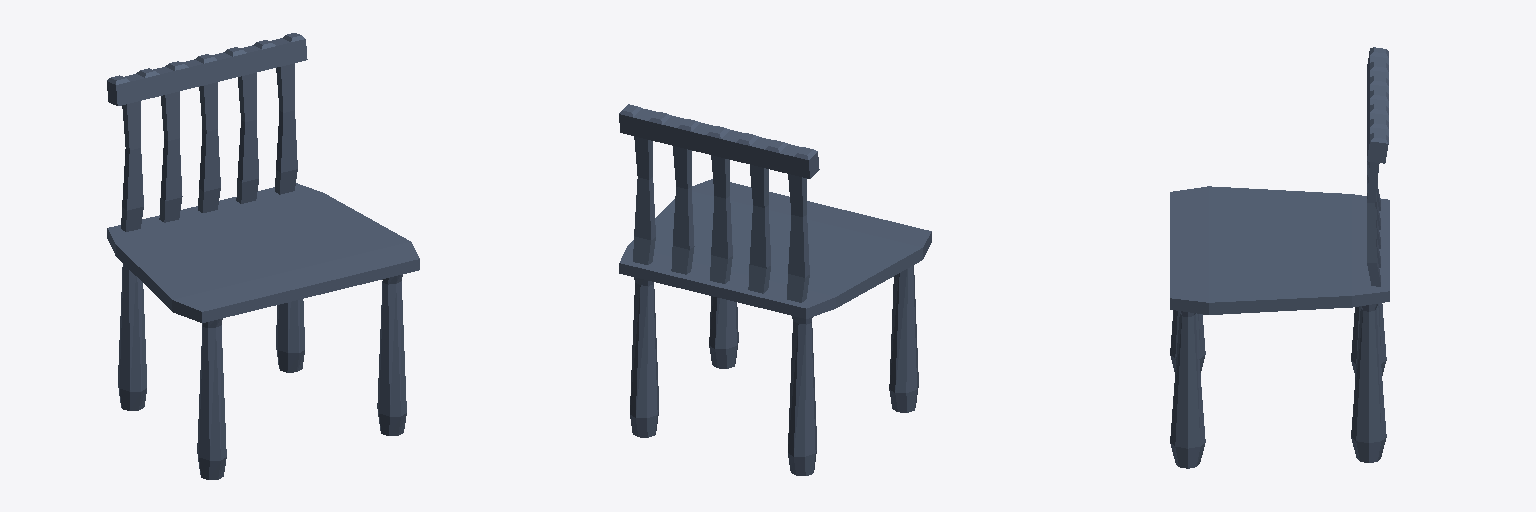
The model's file is ChairTut_Mesh.obj.
3 views of the same model, side by side, from view 1: azimuth 30°, elevation 25°; view 2: azimuth 150°, elevation 25°; view 3: azimuth 270°, elevation 25° (orthographic).
Visible parts, largest first — view 1: ChairBase_ChairBase; view 2: ChairBase_ChairBase; view 3: ChairBase_ChairBase.
Boxes of the visible parts, <box> form: ChairBase_ChairBase: <box>107,33,419,479</box>; ChairBase_ChairBase: <box>619,104,931,475</box>; ChairBase_ChairBase: <box>1170,47,1389,468</box>.
Size of the model in its own units: 4.65 by 6.1 by 3.72.